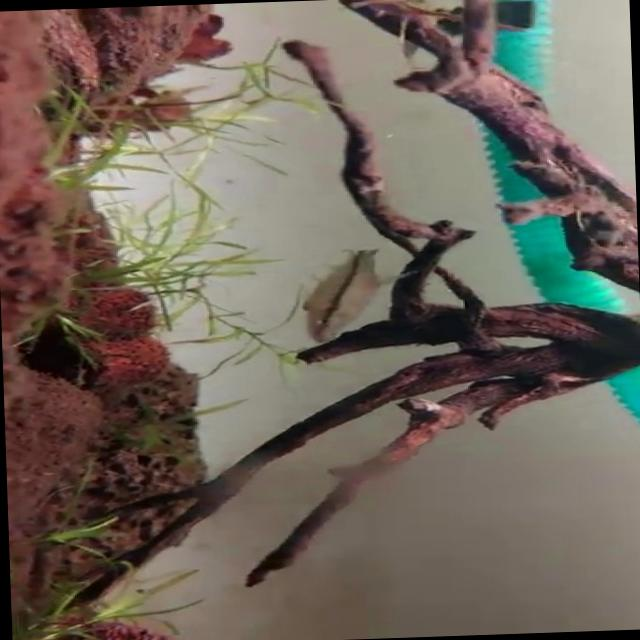Cakil Baligi: (294, 248, 392, 344)
